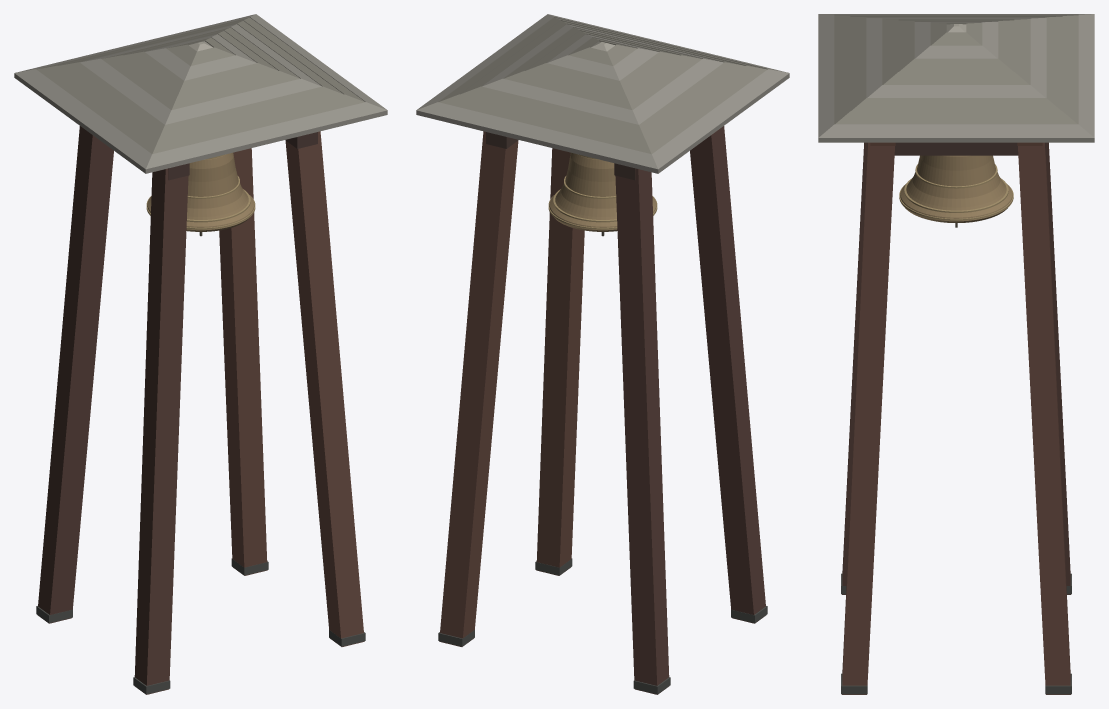
The model's file is pudong-yangjing-school-historic-bell-pavilion-web.glb.
3 renders of one model, left to right at view 1: azimuth 30°, elevation 25°; view 2: azimuth 150°, elevation 25°; view 3: azimuth 270°, elevation 25°, orthographic. The views are drawn at different scales.
Parts seen in each view (by area): view 1: 洋泾中学旧办公楼前四柱钟亭与铜校钟; view 2: 洋泾中学旧办公楼前四柱钟亭与铜校钟; view 3: 洋泾中学旧办公楼前四柱钟亭与铜校钟.
Boxes of the visible parts, x1=… form: 洋泾中学旧办公楼前四柱钟亭与铜校钟: x1=14, y1=14, x2=387, y2=694; 洋泾中学旧办公楼前四柱钟亭与铜校钟: x1=416, y1=14, x2=789, y2=694; 洋泾中学旧办公楼前四柱钟亭与铜校钟: x1=818, y1=14, x2=1094, y2=694.
Bounding box in the file's own units: 1.16 × 2.69 × 1.1.
